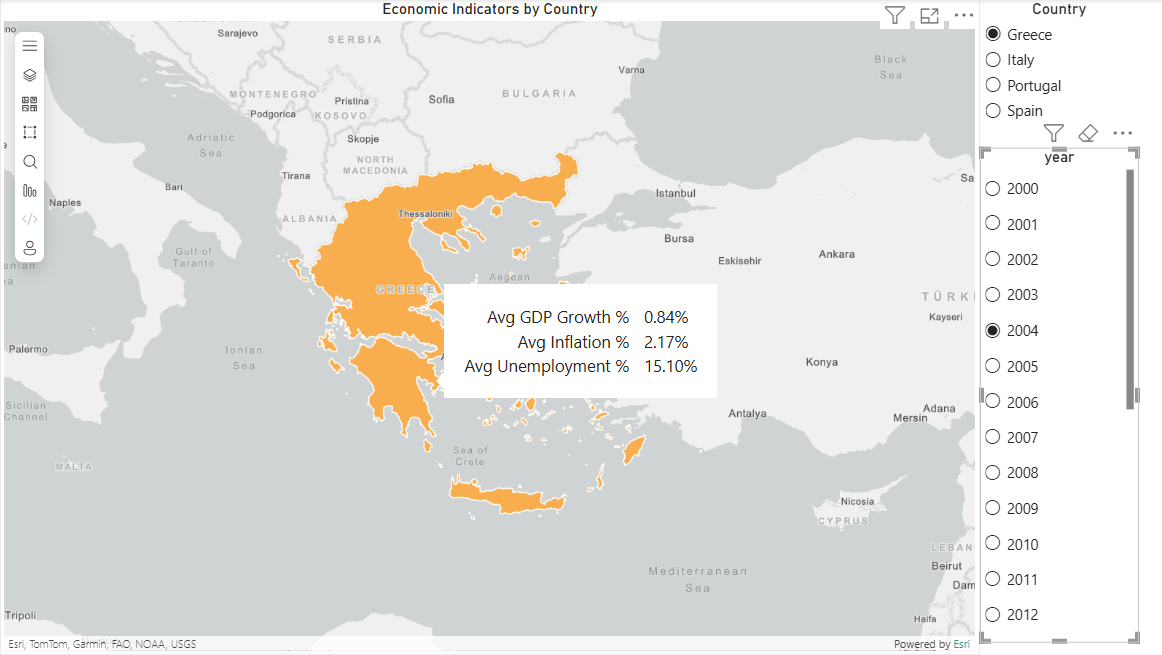

The page's visual inventory and layout, read from the dashboard file:
{"tool":"powerbi","page":{"name":"Map","canvas":[1280,720],"ordinal":1},"visuals":[{"type":"esriVisual","title":"Economic Indicators by Country","fields":{"Location":["southern_europe_economy economic_indicators.country_name"]},"box":[0,0,1075.8,720.4],"z":0},{"type":"listSlicer","title":"Country","fields":{"Values":["southern_europe_economy economic_indicators.country_name"]},"box":[1075.8,0,174.3,144.1],"z":1000},{"type":"listSlicer","fields":{"Values":["southern_europe_economy economic_indicators.year"]},"box":[1075.8,163.3,174.3,543.4],"z":2000}]}

Visuals, with their boxes on the page's 1280x720 design canvas (x1, y1, x2, y2). These are canvas units, not pixel positions in the 1162x655 screenshot, which may show the page scaled, cropped or inside an application window:
"Economic Indicators by Country" esriVisual: 0/0/1076/720
"Country" listSlicer: 1076/0/1250/144
listSlicer - southern_europe_economy economic_indicators.year: 1076/163/1250/707
